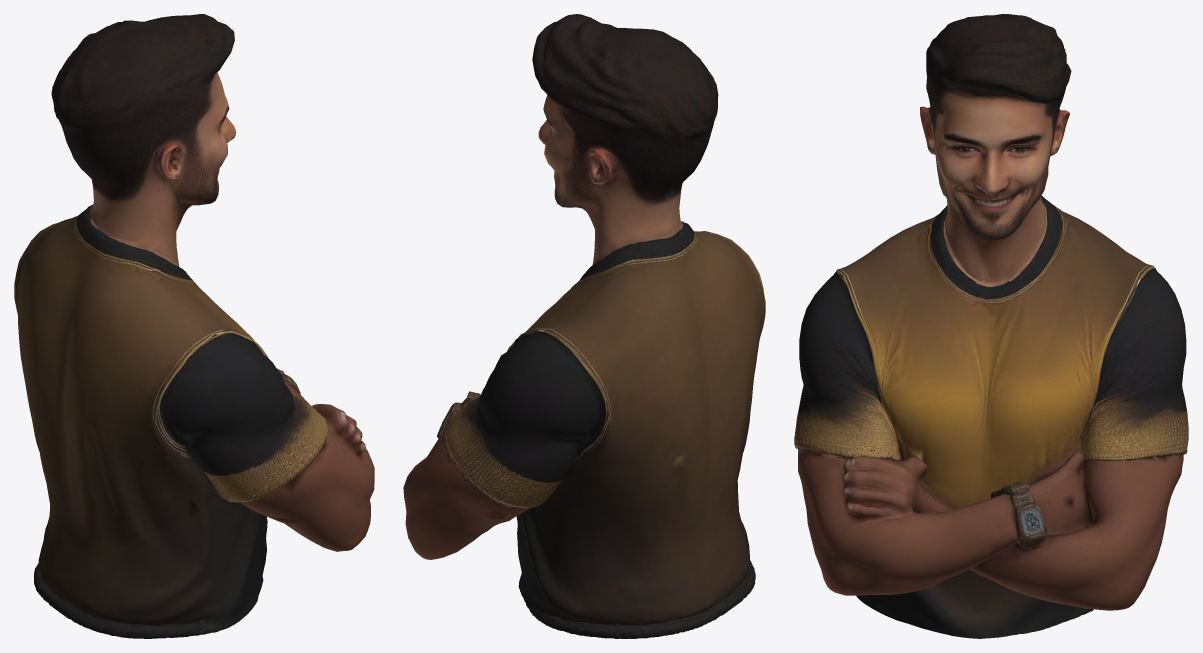
File: ceo_crafter.glb
3 renders of one model, left to right at view 1: azimuth 30°, elevation 25°; view 2: azimuth 150°, elevation 25°; view 3: azimuth 270°, elevation 25°, orthographic. The views are drawn at different scales.
Visible parts, largest first — view 1: world; view 2: world; view 3: world.
Boxes of the visible parts, left/top/right/bottom form: world: left=14, top=14, right=374, bottom=638; world: left=403, top=14, right=765, bottom=638; world: left=794, top=14, right=1188, bottom=638.
Size of the model in its own units: 0.5059 by 0.998 by 0.6309.
1 material, 1 textured.
